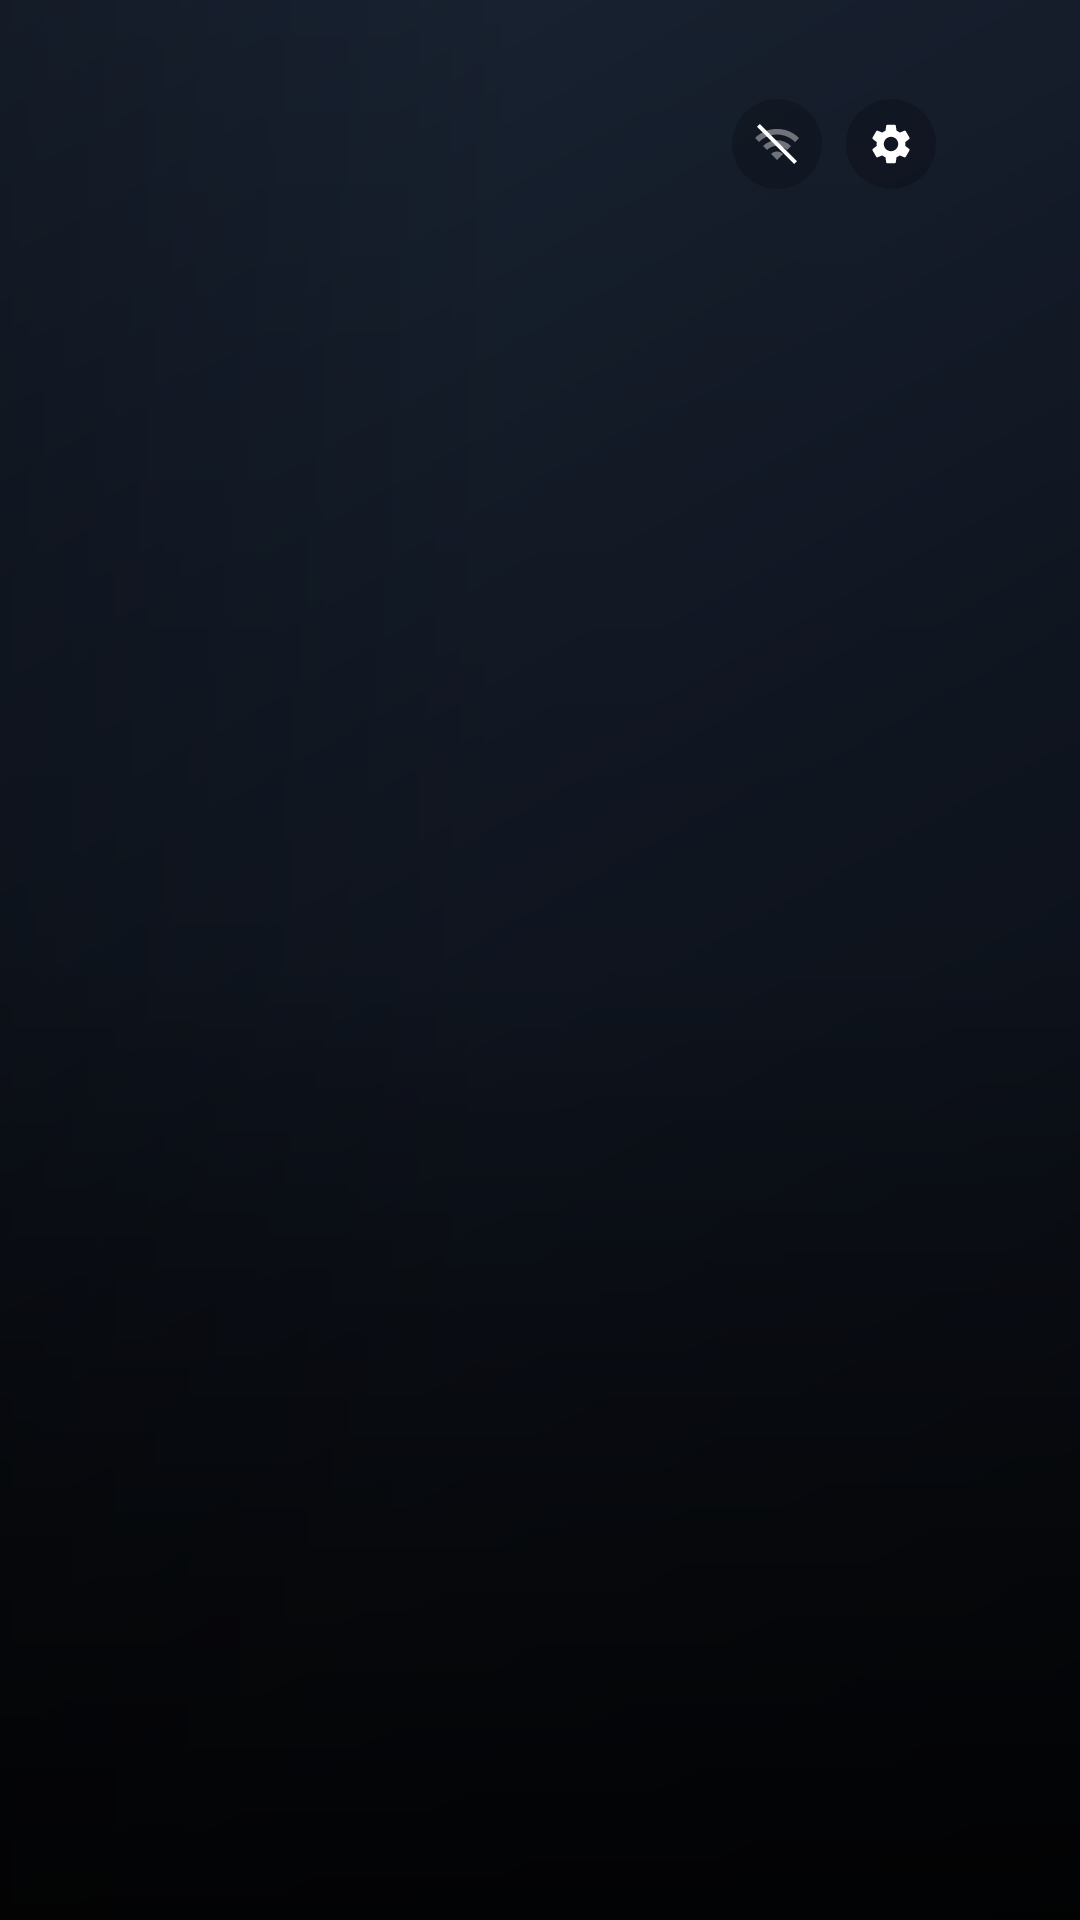

Locate icon controls on the screen. Image size 1080x1920, boxes as [left=x1, top=y1, right=x2, bottom=y2].
Settings: [left=872, top=124, right=910, bottom=164]
Wi-Fi settings: [left=732, top=111, right=822, bottom=189]
